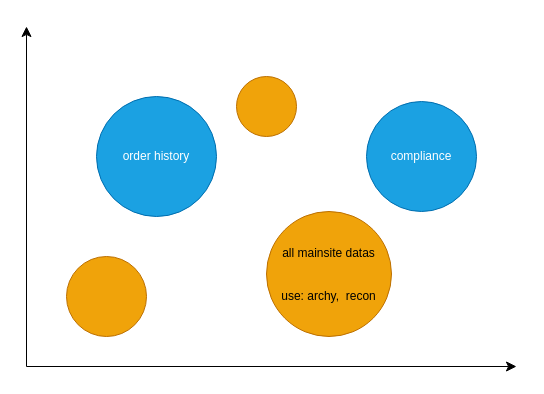
This 544x394 diagram has some shape labels left out. The box of each missing label's shape, as (x1, y1, x2, y2) in pixels:
c2c: (236, 76, 296, 136)
user event log: (66, 256, 146, 336)
